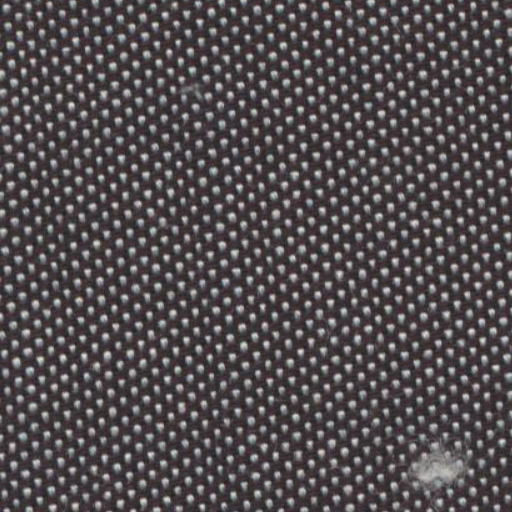PoDong: (396, 416, 486, 490)
